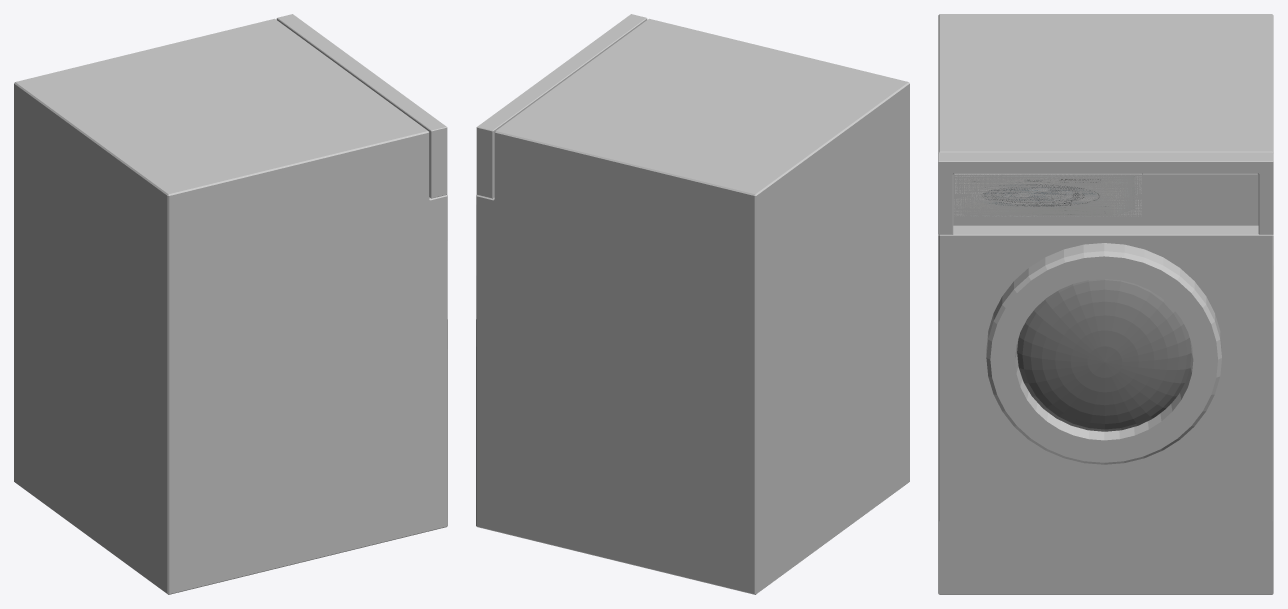
3 views of the same model, side by side, from view 1: azimuth 30°, elevation 25°; view 2: azimuth 150°, elevation 25°; view 3: azimuth 270°, elevation 25° (orthographic). The views are drawn at different scales.
Visible parts, largest first — view 1: mesh1.002_mesh1-geometry, mesh6.002_mesh6-geometry; view 2: mesh1.002_mesh1-geometry, mesh6.002_mesh6-geometry; view 3: mesh1.002_mesh1-geometry, mesh2.002_mesh2-geometry, mesh5.002_mesh5-geometry, mesh6.002_mesh6-geometry, mesh3.002_mesh3-geometry, mesh4.002_mesh4-geometry.
Part boxes in pixels (bbox=[...]): mesh1.002_mesh1-geometry: bbox=[14, 18, 447, 594]; mesh6.002_mesh6-geometry: bbox=[276, 14, 447, 198]; mesh1.002_mesh1-geometry: bbox=[476, 18, 909, 594]; mesh6.002_mesh6-geometry: bbox=[476, 14, 647, 198]; mesh1.002_mesh1-geometry: bbox=[938, 14, 1273, 594]; mesh2.002_mesh2-geometry: bbox=[1017, 279, 1191, 431]; mesh5.002_mesh5-geometry: bbox=[986, 243, 1221, 464]; mesh6.002_mesh6-geometry: bbox=[938, 152, 1273, 234]; mesh3.002_mesh3-geometry: bbox=[954, 173, 1141, 216]; mesh4.002_mesh4-geometry: bbox=[1143, 173, 1257, 216].
Bounding box in the file's own units: 0.5466 × 0.686 × 0.4802.
